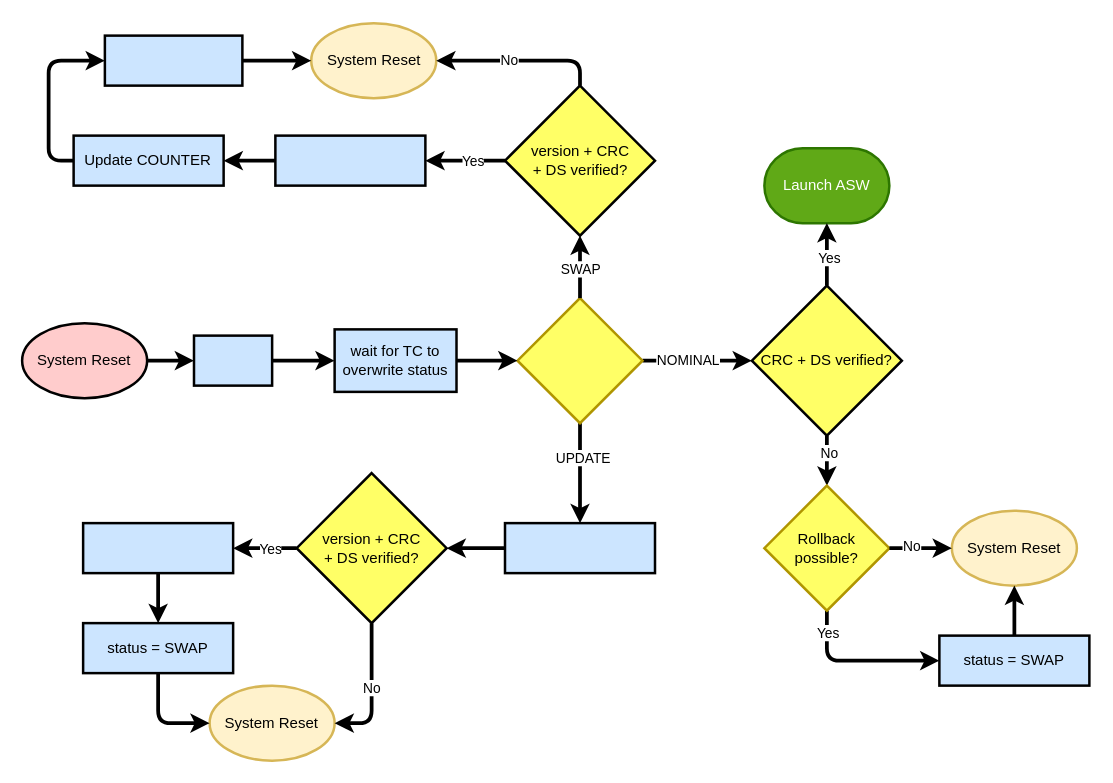
The diagram is 1113 pixels wide and 783 high, and some of its shapes have lost their labels. The box of each missing label's shape, as (x1, y1, x2, y2) in pixels:
init: (192, 334, 273, 386)
Save new ASW image in RAM: (503, 521, 656, 574)
Save new ASW image in UPDATE: (81, 521, 234, 574)
status = NOMINAL: (103, 34, 243, 86)
Status?: (516, 296, 643, 424)
Swap BOOT and UPDATE: (274, 134, 426, 186)
